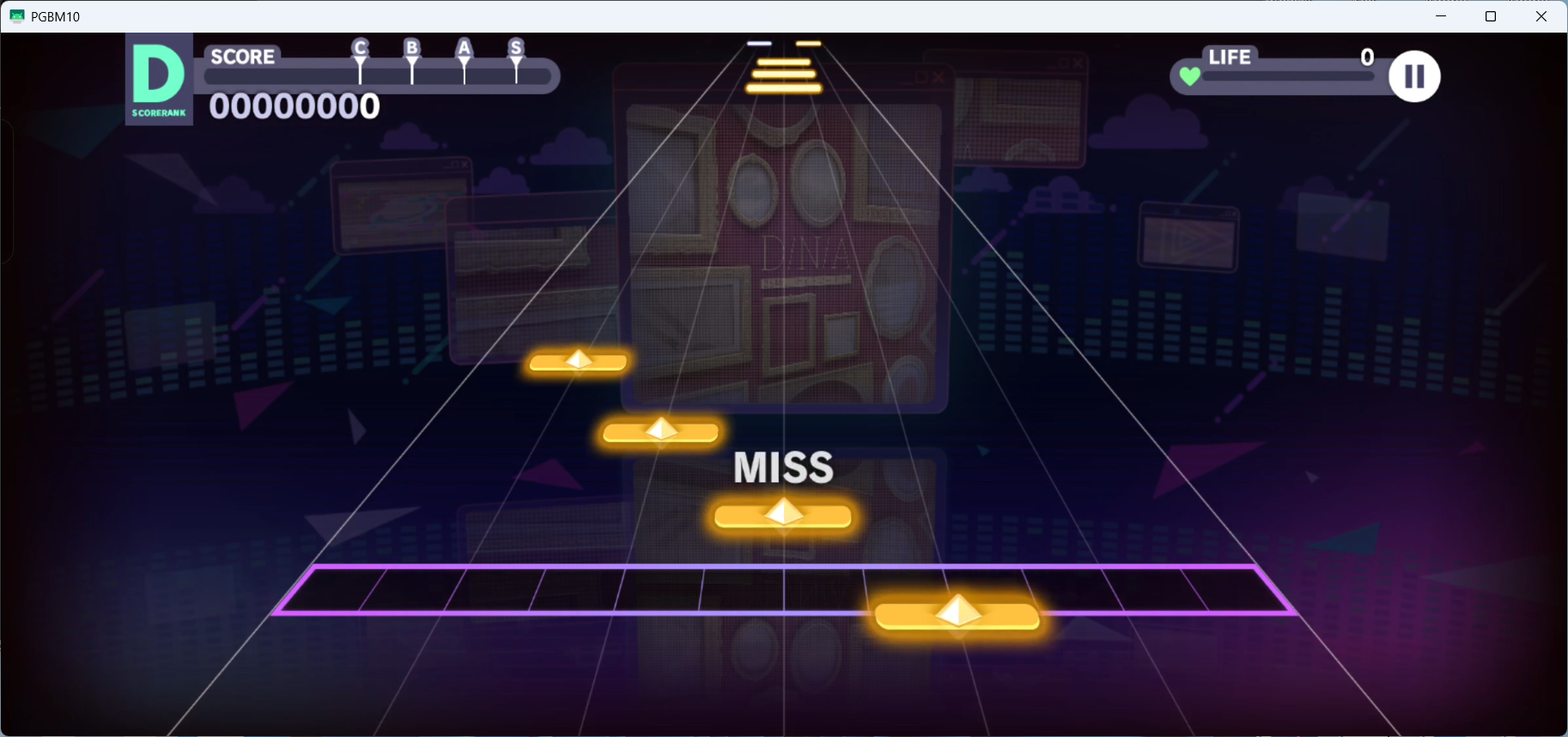sweep: (871, 593, 1044, 631), (714, 496, 851, 527), (602, 414, 719, 443), (527, 348, 628, 372)
tap: (746, 84, 821, 92), (752, 70, 815, 77), (757, 58, 811, 65), (796, 40, 821, 46), (747, 41, 771, 45)
